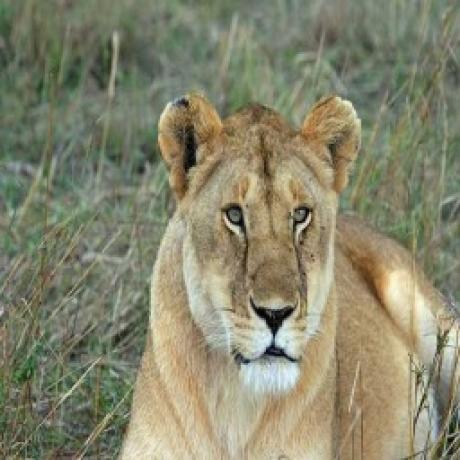Lion: (116, 90, 460, 460)
